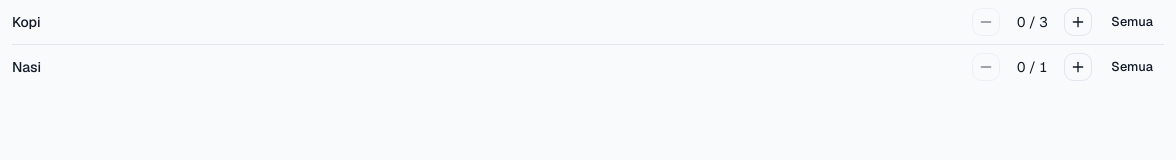
Scenario: SplitPicker › chooses how many of each line to pay now, within the line's quantity
Step 1. Click the button named "Tambah Kopi dibayar" → (1078, 22), box x1=1064 y1=8 x2=1092 y2=36
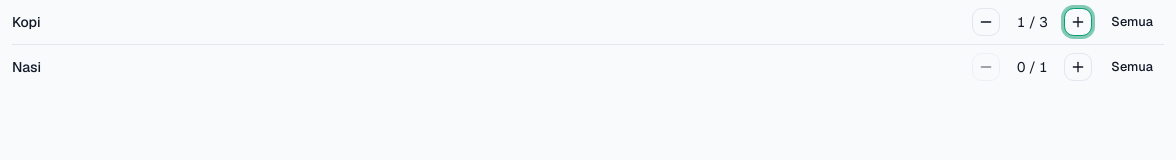
Step 2. Click the button named "Tambah Kopi dibayar" → (1078, 22), box x1=1064 y1=8 x2=1092 y2=36
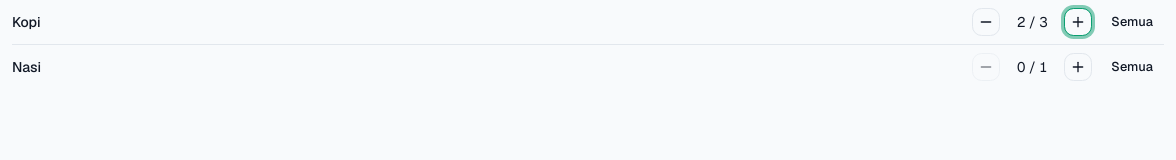
Step 3. Click the button with aria-label "Semua Nasi" → (1132, 67), box x1=1100 y1=53 x2=1164 y2=81
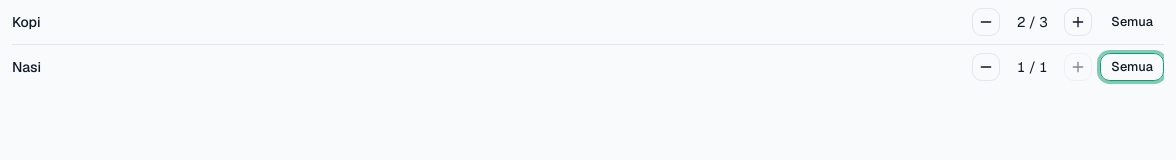
Expected: the text named "Kopi dibayar" reads "2 / 3", x1=1017 y1=13 x2=1048 y2=31
Expected: the button named "Tambah Nasi dibayar" is disabled, x1=1064 y1=53 x2=1092 y2=81
